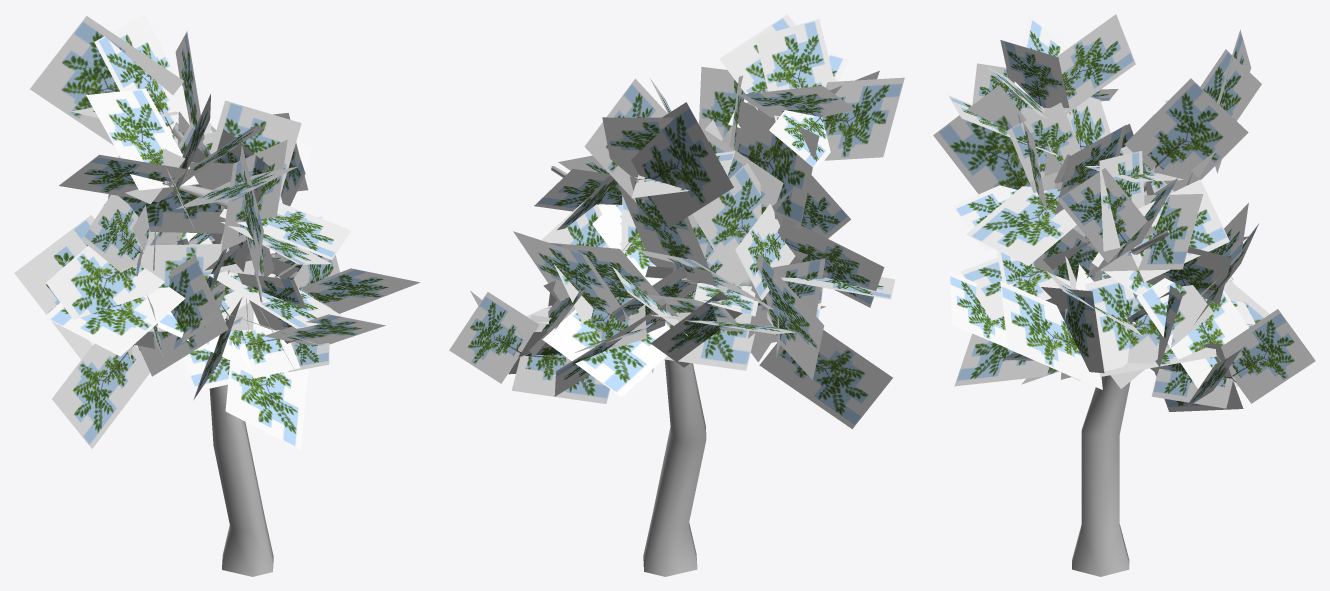
The model's file is tree.gltf.
3 renders of one model, left to right at view 1: azimuth 30°, elevation 25°; view 2: azimuth 150°, elevation 25°; view 3: azimuth 270°, elevation 25°, orthographic. The views are drawn at different scales.
Parts seen in each view (by area): view 1: leaves, tree; view 2: leaves, tree; view 3: leaves, tree.
Boxes of the visible parts, bbox=[...] form: leaves: bbox=[14, 14, 420, 449]; tree: bbox=[133, 122, 293, 576]; leaves: bbox=[449, 14, 904, 429]; tree: bbox=[518, 166, 780, 576]; leaves: bbox=[933, 14, 1315, 411]; tree: bbox=[1042, 106, 1236, 576].
Bounding box in the file's own units: 13.12 × 18.99 × 13.33.
